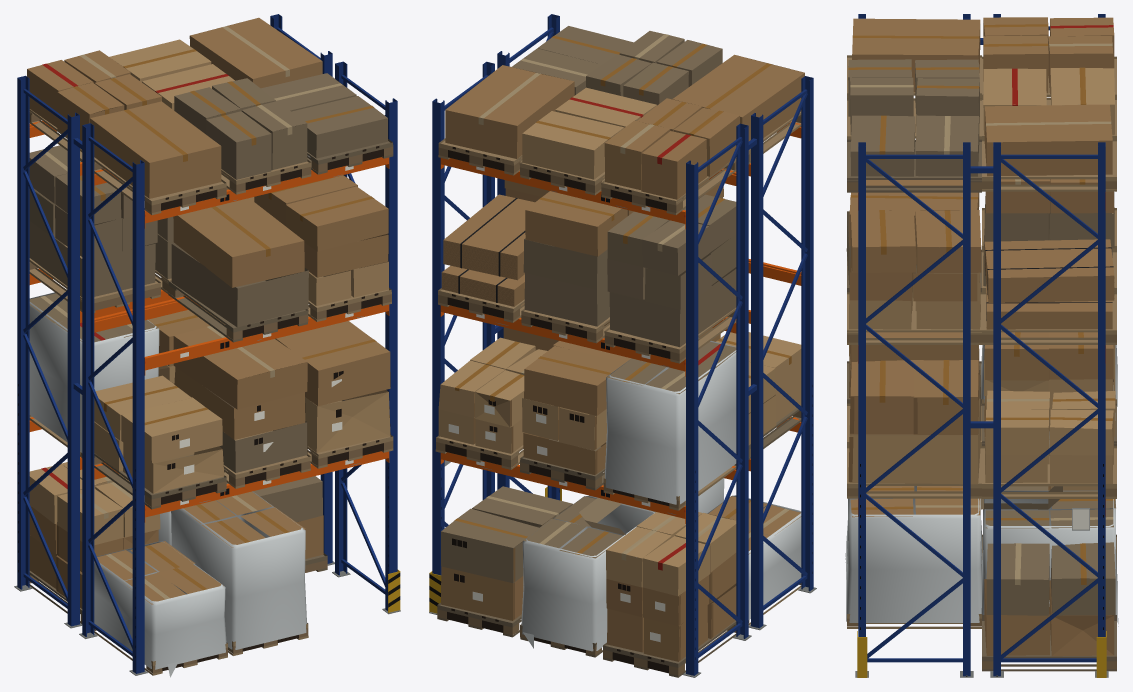
Rendered from rack@5.glb.
3 views of the same model, side by side, from view 1: azimuth 30°, elevation 25°; view 2: azimuth 150°, elevation 25°; view 3: azimuth 270°, elevation 25° (orthographic). The views are drawn at different scales.
Visible parts, largest first — view 1: rack15, rack0, rack24, rack18, rack22, rack8, rack12, rack13, rack17, rack19, rack14, rack16 (+2 smaller); view 2: rack15, rack24, rack0, rack22, rack18, rack8, rack12, rack14, rack13, rack17, rack19, rack21 (+3 smaller); view 3: rack15, rack24, rack0, rack22, rack18, rack12, rack17, rack19, rack16, rack13, rack4, rack21 (+2 smaller).
Part boxes in pixels (left/top/right/bottom): rack15: left=27, top=17, right=390, bottom=608; rack0: left=17, top=14, right=397, bottom=673; rack24: left=29, top=73, right=387, bottom=522; rack18: left=29, top=289, right=306, bottom=677; rack22: left=29, top=39, right=390, bottom=545; rack8: left=29, top=120, right=389, bottom=522; rack12: left=29, top=109, right=393, bottom=675; rack13: left=29, top=114, right=393, bottom=673; rack17: left=73, top=49, right=376, bottom=590; rack19: left=29, top=139, right=393, bottom=623; rack14: left=161, top=146, right=383, bottom=670; rack16: left=40, top=26, right=342, bottom=599; rack15: left=441, top=54, right=804, bottom=661; rack24: left=441, top=26, right=736, bottom=583; rack0: left=432, top=14, right=813, bottom=675; rack22: left=438, top=87, right=801, bottom=596; rack18: left=521, top=338, right=801, bottom=651; rack8: left=440, top=121, right=801, bottom=523; rack12: left=435, top=112, right=801, bottom=625; rack14: left=445, top=147, right=670, bottom=673; rack13: left=436, top=116, right=801, bottom=675; rack17: left=454, top=35, right=791, bottom=554; rack19: left=437, top=405, right=801, bottom=677; rack21: left=442, top=241, right=713, bottom=660; rack15: left=849, top=17, right=1114, bottom=656; rack24: left=846, top=59, right=1115, bottom=615; rack0: left=858, top=14, right=1105, bottom=676; rack22: left=848, top=68, right=1115, bottom=490; rack18: left=845, top=345, right=1118, bottom=626; rack12: left=847, top=55, right=1116, bottom=628; rack17: left=848, top=24, right=1115, bottom=584; rack19: left=847, top=139, right=1116, bottom=671; rack16: left=850, top=43, right=1113, bottom=585; rack13: left=847, top=98, right=1116, bottom=669; rack4: left=857, top=631, right=1106, bottom=677; rack21: left=848, top=247, right=987, bottom=481.
Size of the model in its own units: 2.83 by 5.3 by 2.43.
